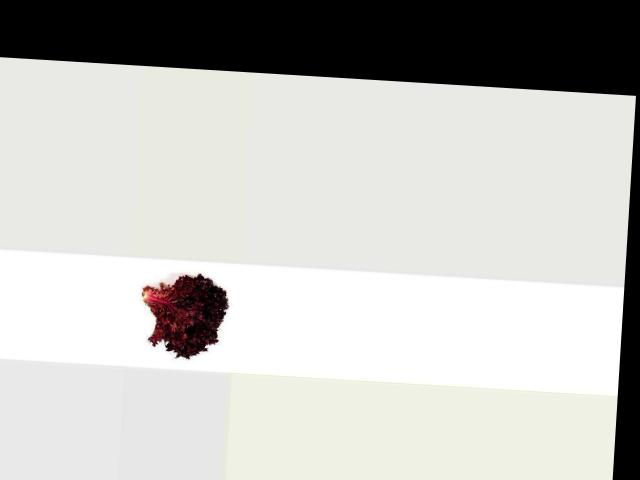lettuce: (129, 273, 234, 363)
